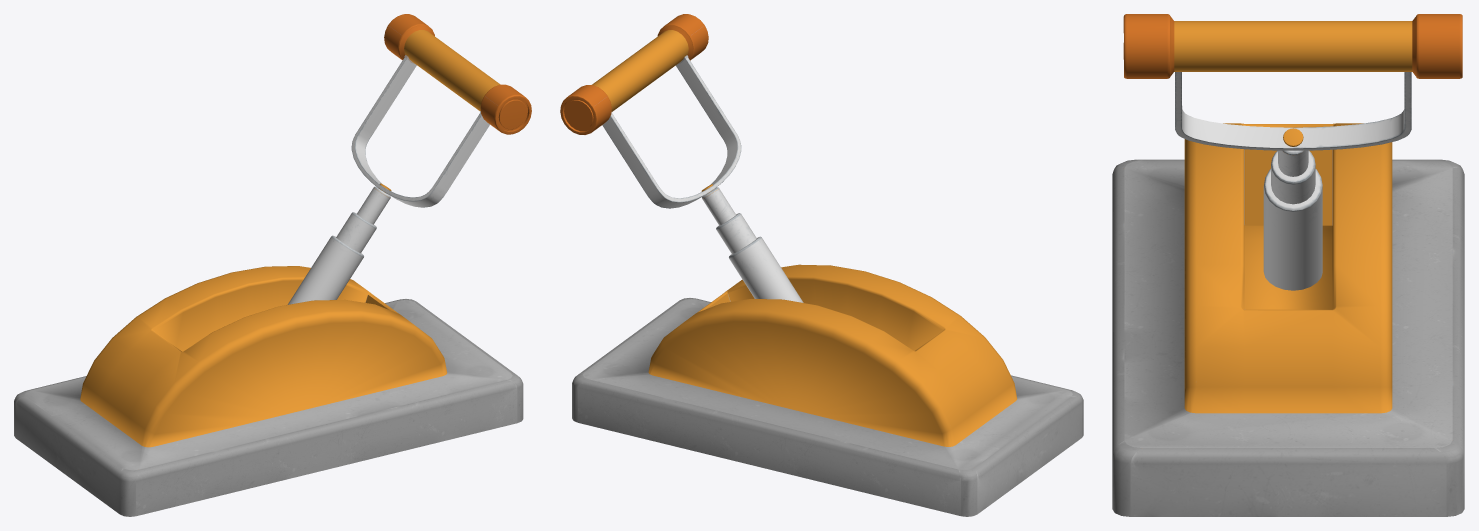
The model's file is lever2.glb.
The picture shows the model from 3 angles, left to right: view 1: azimuth 30°, elevation 25°; view 2: azimuth 150°, elevation 25°; view 3: azimuth 270°, elevation 25°; orthographic projection. The views are drawn at different scales.
Visible parts, largest first — view 1: lever_base, lever_handle; view 2: lever_base, lever_handle; view 3: lever_base, lever_handle.
Part boxes in pixels (x1,y1,x2,y2): lever_base: [14, 266, 523, 516]; lever_handle: [287, 14, 531, 304]; lever_base: [572, 264, 1083, 516]; lever_handle: [560, 14, 803, 302]; lever_base: [1112, 123, 1464, 516]; lever_handle: [1123, 14, 1462, 290].
Bounding box in the file's own units: 0.8506 × 0.6431 × 0.4164.
Materials: 1 (1 with a texture image).
